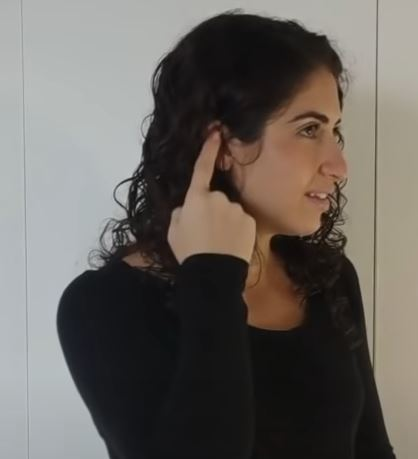ear: (167, 120, 261, 281)
